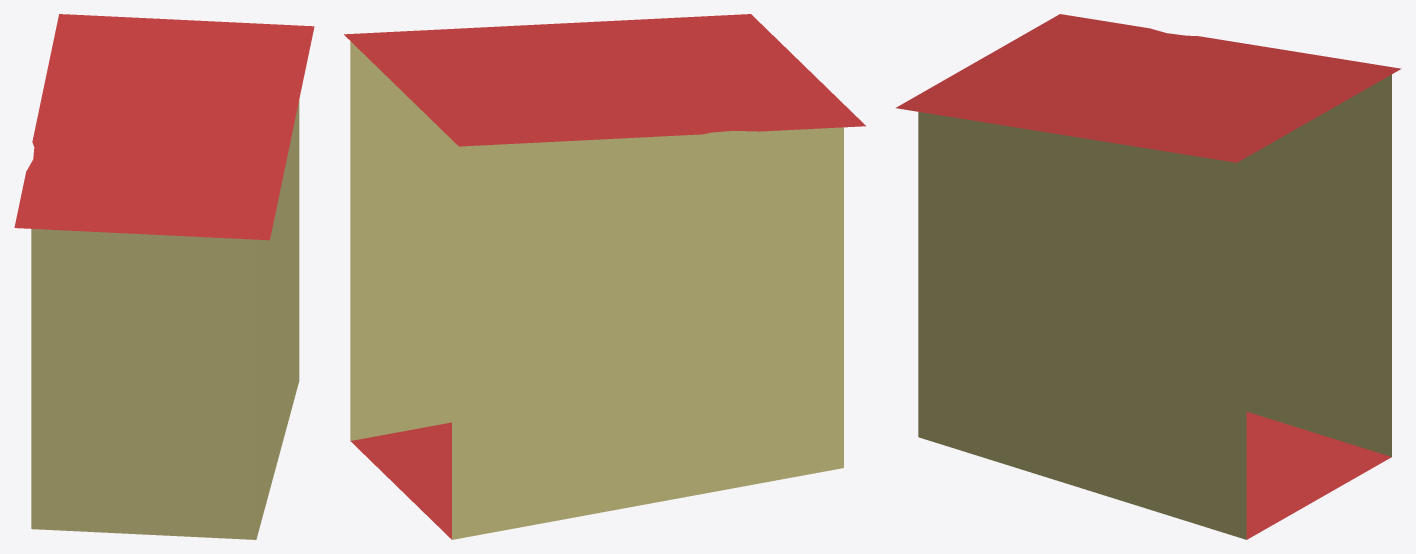
3 renders of one model, left to right at view 1: azimuth 30°, elevation 25°; view 2: azimuth 150°, elevation 25°; view 3: azimuth 270°, elevation 25°, orthographic. The views are drawn at different scales.
Size of the model in its own units: 7.22 by 7.69 by 6.41.
